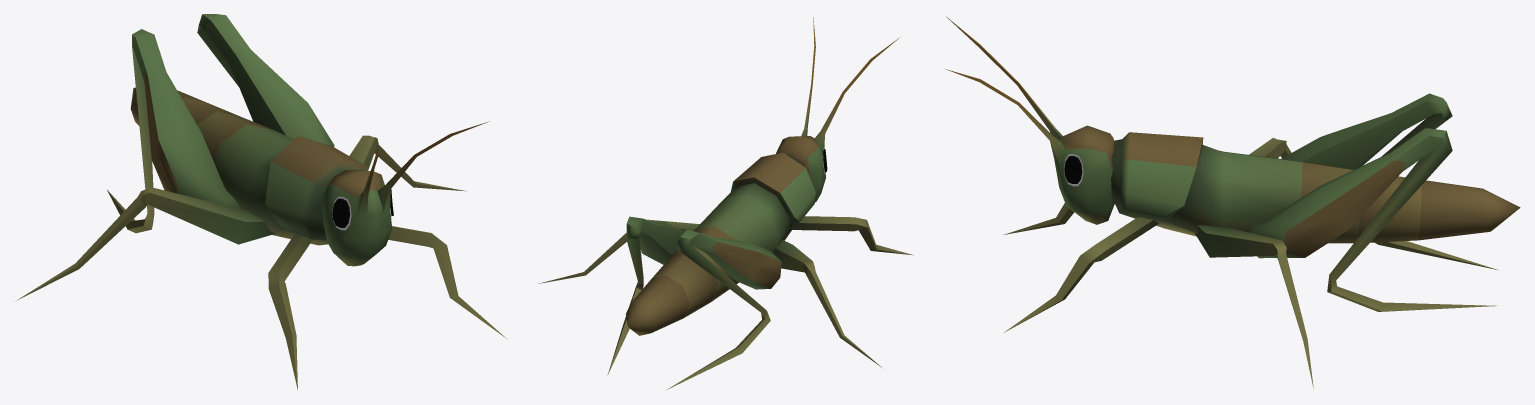
3 views of the same model, side by side, from view 1: azimuth 30°, elevation 25°; view 2: azimuth 150°, elevation 25°; view 3: azimuth 270°, elevation 25° (orthographic). The views are drawn at different scales.
Visible parts, largest first — view 1: base.011; view 2: base.011; view 3: base.011.
Boxes of the visible parts, x1=… form: base.011: x1=16, y1=14, x2=506, y2=389; base.011: x1=538, y1=17, x2=913, y2=389; base.011: x1=945, y1=16, x2=1520, y2=388.
Size of the model in its own units: 0.4363 by 0.236 by 0.5.
